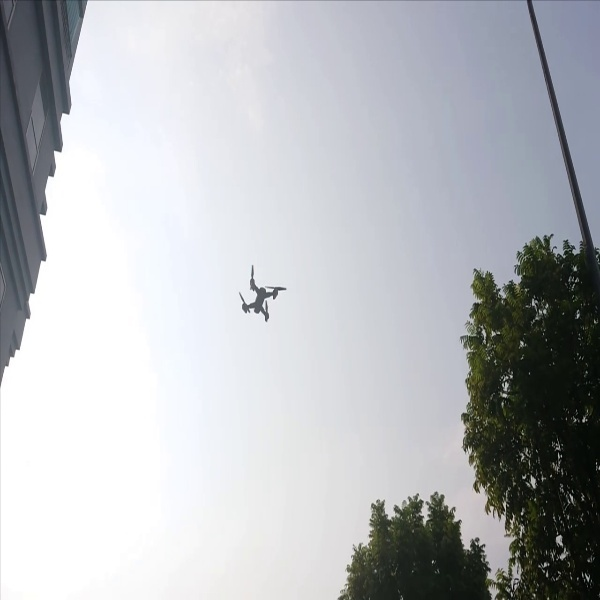drone: (227, 258, 296, 333)
